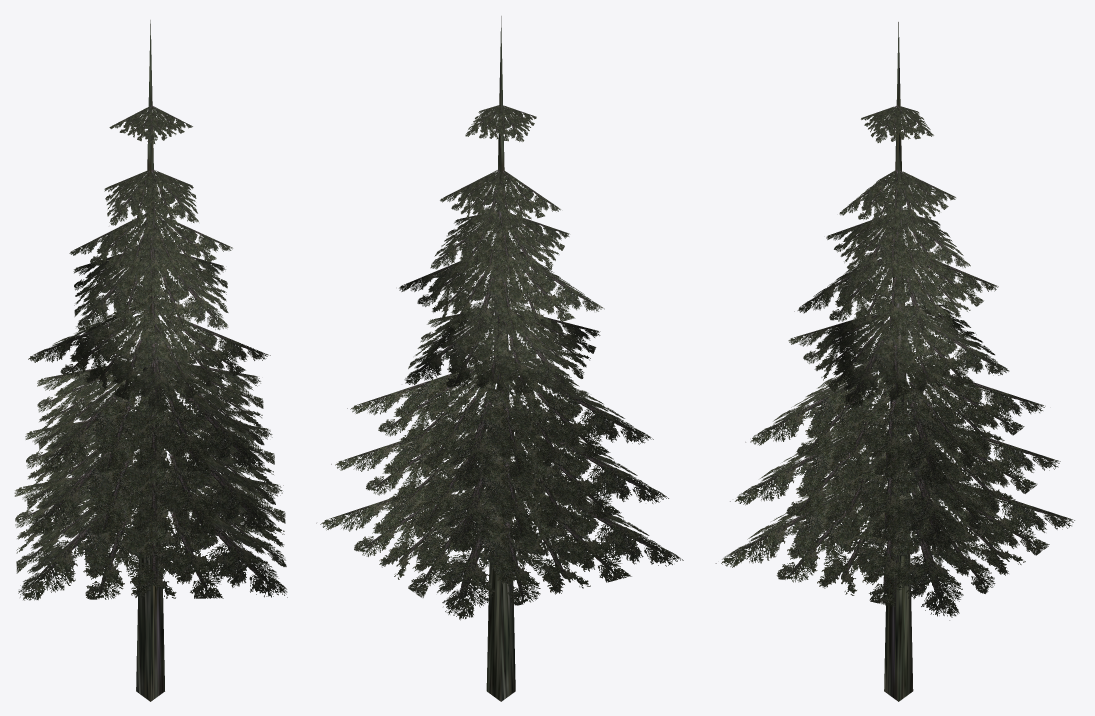
Rendered from conf_mtns_pine_full_l3.fbx.
3 views of the same model, side by side, from view 1: azimuth 30°, elevation 25°; view 2: azimuth 150°, elevation 25°; view 3: azimuth 270°, elevation 25° (orthographic).
Parts seen in each view (by area): view 1: mesh_node; view 2: mesh_node; view 3: mesh_node.
Part boxes in pixels (x1=…): mesh_node: x1=14, y1=20, x2=287, y2=701; mesh_node: x1=316, y1=16, x2=683, y2=701; mesh_node: x1=715, y1=22, x2=1074, y2=701.
Size of the model in its own units: 9.59 by 19.57 by 9.53.
